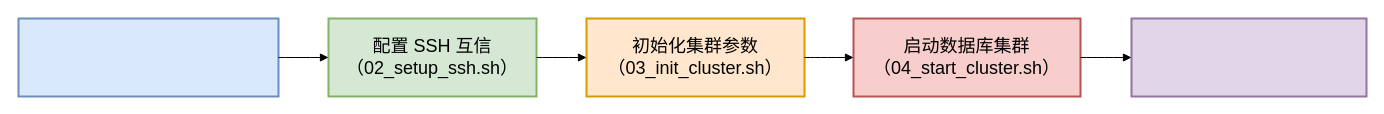
Image size: 1384x114. Some labels were removed from this diagram. Here are the shapes that lost their labels. From the top down, the centre of each, then its label:
At [148,57]: "初始化环境 （01_create_containers.sh）".
At [1248,57]: "验证集群状态 （05_verify_cluster.sh）".
